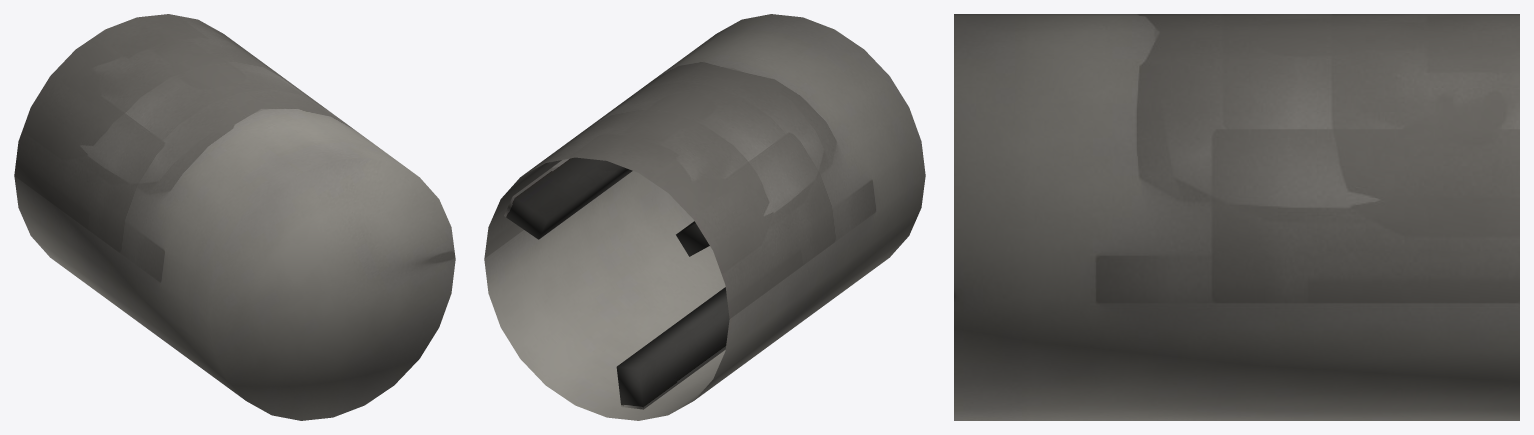
The model's file is giant_dryer_drum.glb.
3 views of the same model, side by side, from view 1: azimuth 30°, elevation 25°; view 2: azimuth 150°, elevation 25°; view 3: azimuth 270°, elevation 25° (orthographic). The views are drawn at different scales.
Visible parts, largest first — view 1: prop_giant_dryer_drum_felt; view 2: prop_giant_dryer_drum_felt; view 3: prop_giant_dryer_drum_felt.
Part boxes in pixels (x1=…): prop_giant_dryer_drum_felt: x1=14, y1=14, x2=455, y2=420; prop_giant_dryer_drum_felt: x1=484, y1=14, x2=925, y2=420; prop_giant_dryer_drum_felt: x1=954, y1=14, x2=1519, y2=420.
Size of the model in its own units: 1.3 by 1.3 by 1.8.
Materials: 1 (1 with a texture image).
